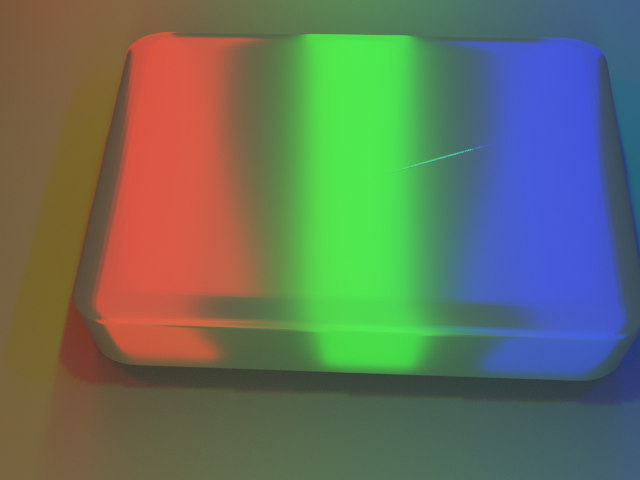scratch: (253, 44, 608, 269)
